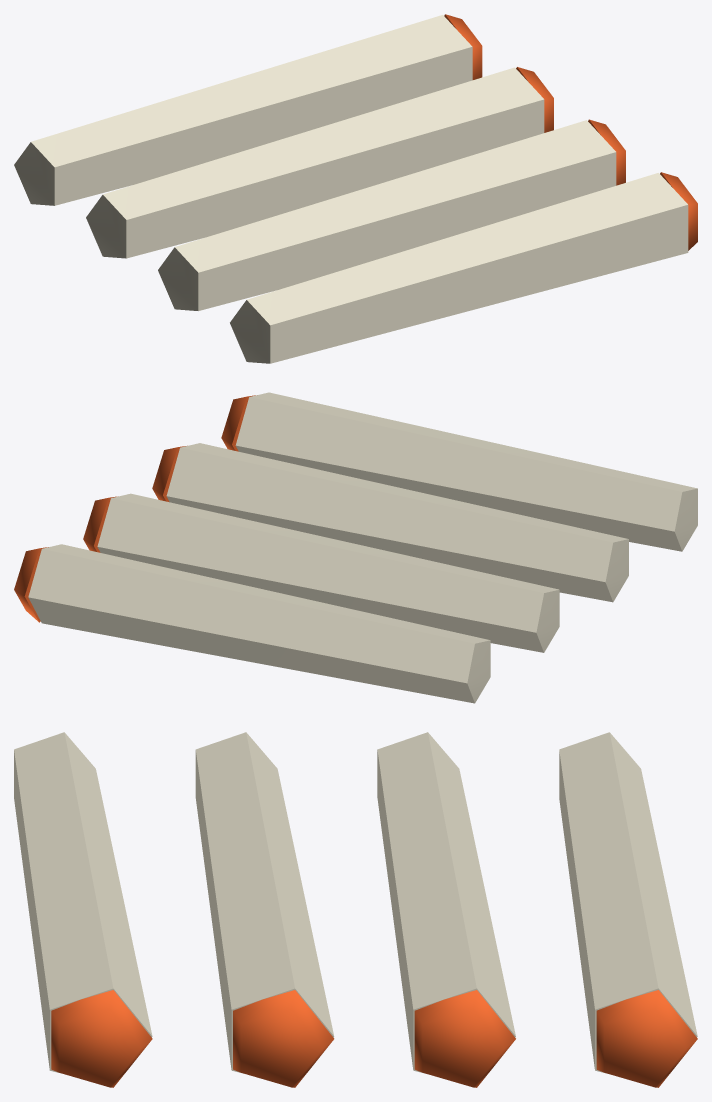
The model's file is drug_joints.obj.
The picture shows the model from 3 angles, top to bottom: view 1: azimuth 30°, elevation 25°; view 2: azimuth 150°, elevation 25°; view 3: azimuth 270°, elevation 25°; orthographic projection. The views are drawn at different scales.
Visible parts, largest first — view 1: part_000_paper, part_048_paper, part_024_paper, part_072_paper, part_012_ember, part_084_ember, part_060_ember, part_036_ember; view 2: part_072_paper, part_048_paper, part_024_paper, part_000_paper, part_084_ember, part_012_ember, part_036_ember, part_060_ember; view 3: part_000_paper, part_072_paper, part_048_paper, part_024_paper, part_060_ember, part_084_ember, part_012_ember, part_036_ember.
Boxes of the visible parts, box(x1,y1,x2,y2) form: part_000_paper: box(230, 173, 688, 363); part_048_paper: box(86, 67, 544, 258); part_024_paper: box(158, 120, 616, 310); part_072_paper: box(14, 15, 472, 205); part_012_ember: box(660, 172, 697, 250); part_084_ember: box(444, 14, 482, 79); part_060_ember: box(516, 67, 553, 132); part_036_ember: box(588, 119, 625, 185); part_072_paper: box(28, 544, 490, 703); part_048_paper: box(97, 493, 559, 652); part_024_paper: box(166, 443, 628, 602); part_000_paper: box(235, 392, 697, 551); part_084_ember: box(14, 547, 48, 622); part_012_ember: box(221, 395, 255, 451); part_036_ember: box(152, 445, 187, 502); part_060_ember: box(83, 496, 116, 552); part_000_paper: box(14, 732, 152, 1073); part_072_paper: box(559, 732, 697, 1073); part_048_paper: box(377, 732, 515, 1073); part_024_paper: box(195, 732, 334, 1072); part_060_ember: box(414, 990, 515, 1087); part_084_ember: box(596, 990, 697, 1087); part_012_ember: box(51, 990, 152, 1087); part_036_ember: box(233, 990, 334, 1087).
Bounding box in the file's own units: 0.2914 × 0.0476 × 0.3011.
